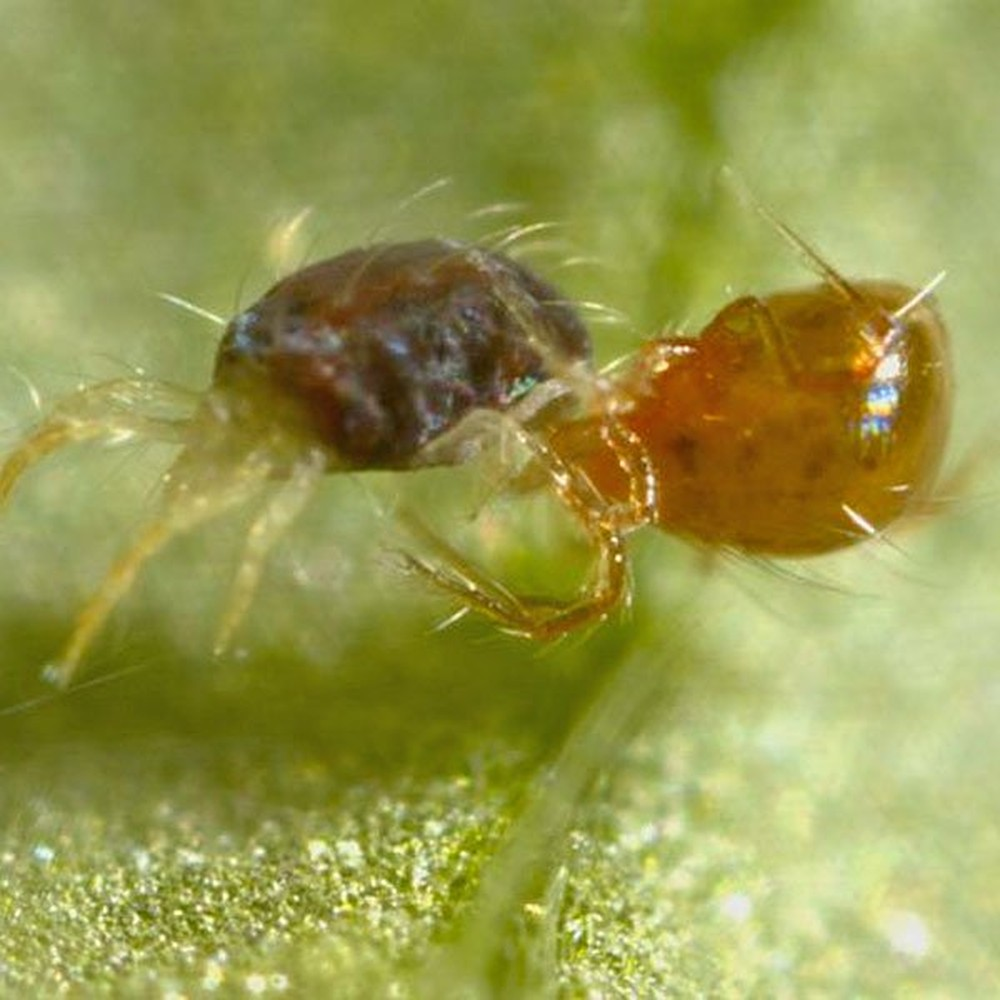Aracnido Rojo: (9, 179, 637, 671), (505, 229, 972, 698)
